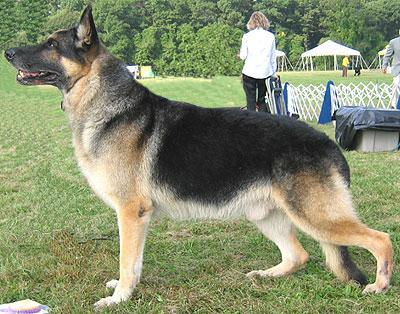German_shepherd: (3, 3, 399, 311)
